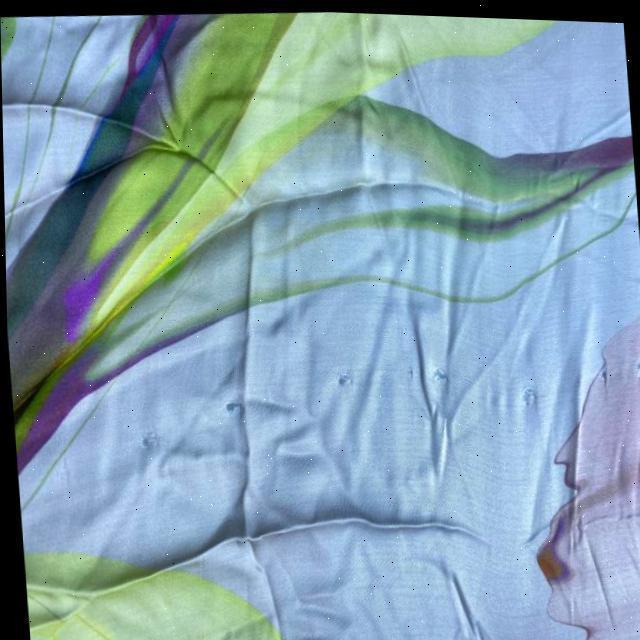broken_yarn: (26, 501, 480, 636), (1, 98, 240, 224), (230, 211, 260, 560), (563, 400, 583, 554)
